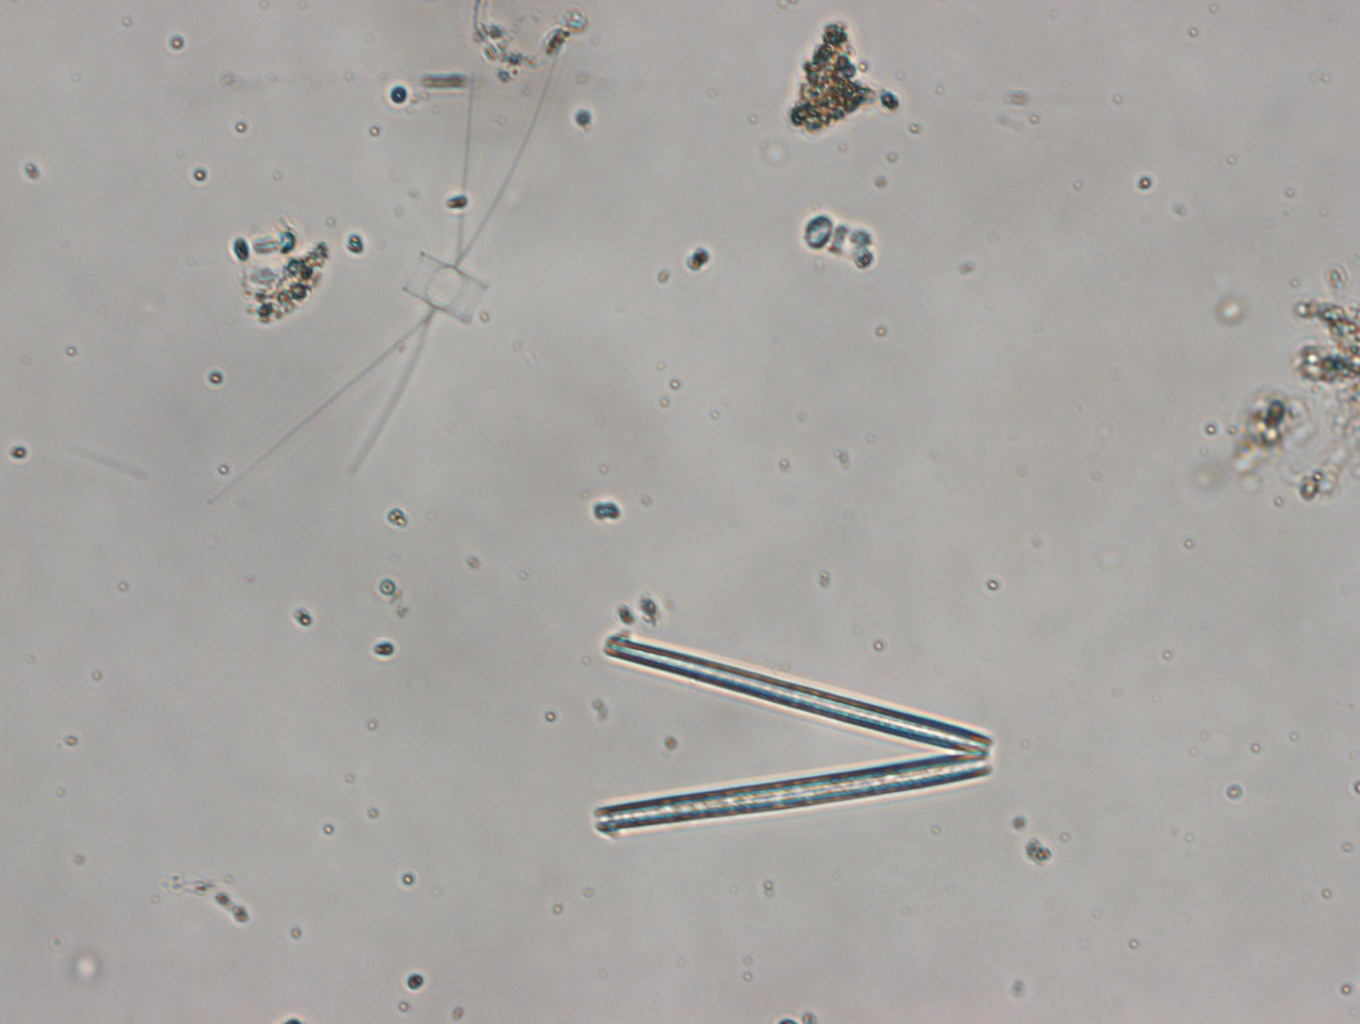chaetoceros: (242, 42, 560, 487)
thalassionema frauenfeldii: (596, 610, 1007, 866)
